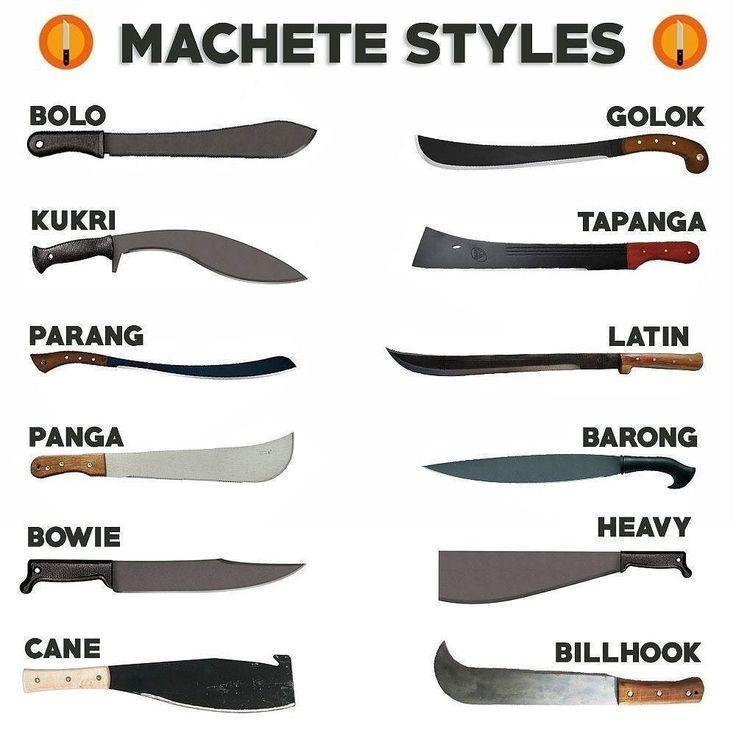facao: (394, 632, 712, 715), (424, 528, 712, 613), (379, 116, 720, 184), (23, 226, 319, 300), (12, 650, 306, 723), (408, 216, 706, 285), (364, 333, 708, 387), (12, 549, 319, 609), (17, 116, 328, 174), (26, 433, 318, 492), (19, 334, 316, 390)
